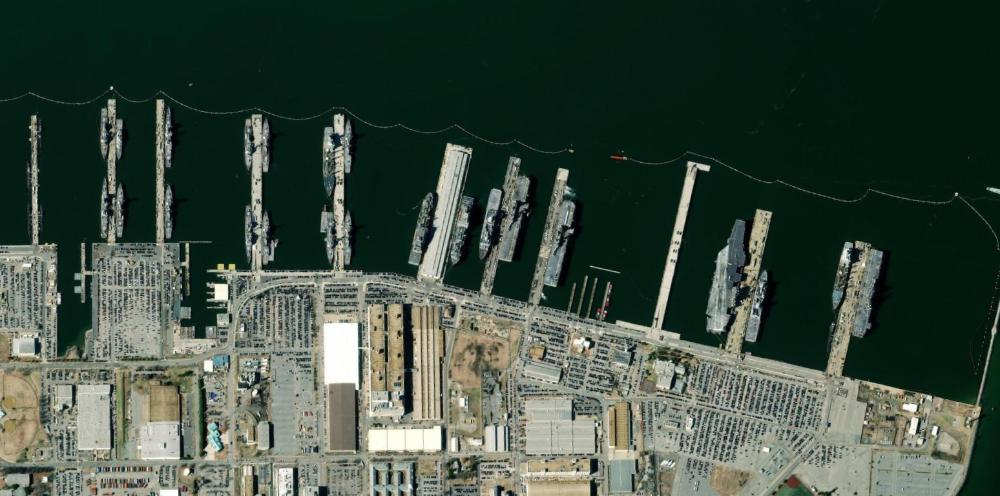amphiby: (744, 268, 780, 342)
destroyer: (163, 104, 175, 169), (99, 178, 110, 242), (244, 204, 253, 267)
fregate: (261, 118, 275, 178), (323, 211, 337, 265), (343, 207, 355, 266), (98, 106, 110, 162), (115, 182, 126, 240), (243, 117, 254, 171), (164, 185, 173, 240)
pha: (851, 247, 890, 339), (543, 185, 577, 289), (498, 171, 534, 263)
supply: (478, 183, 499, 263), (322, 123, 337, 200)
tender: (446, 187, 476, 275), (407, 193, 437, 273)
